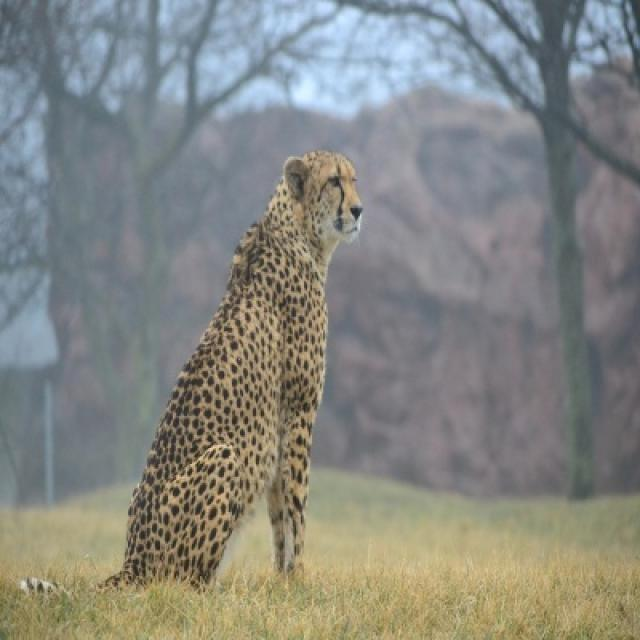Cheetah: (96, 150, 365, 592)
